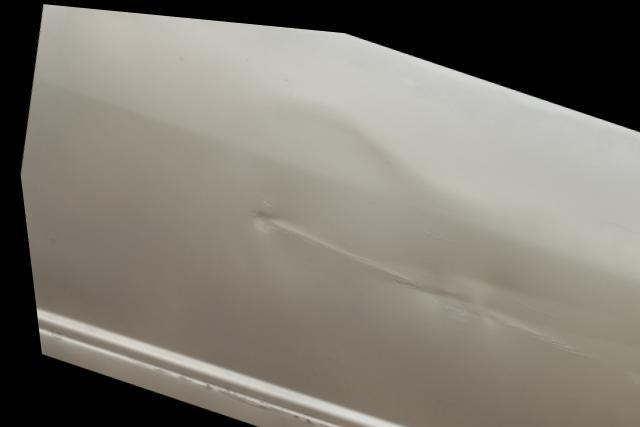dent: (227, 92, 580, 355)
